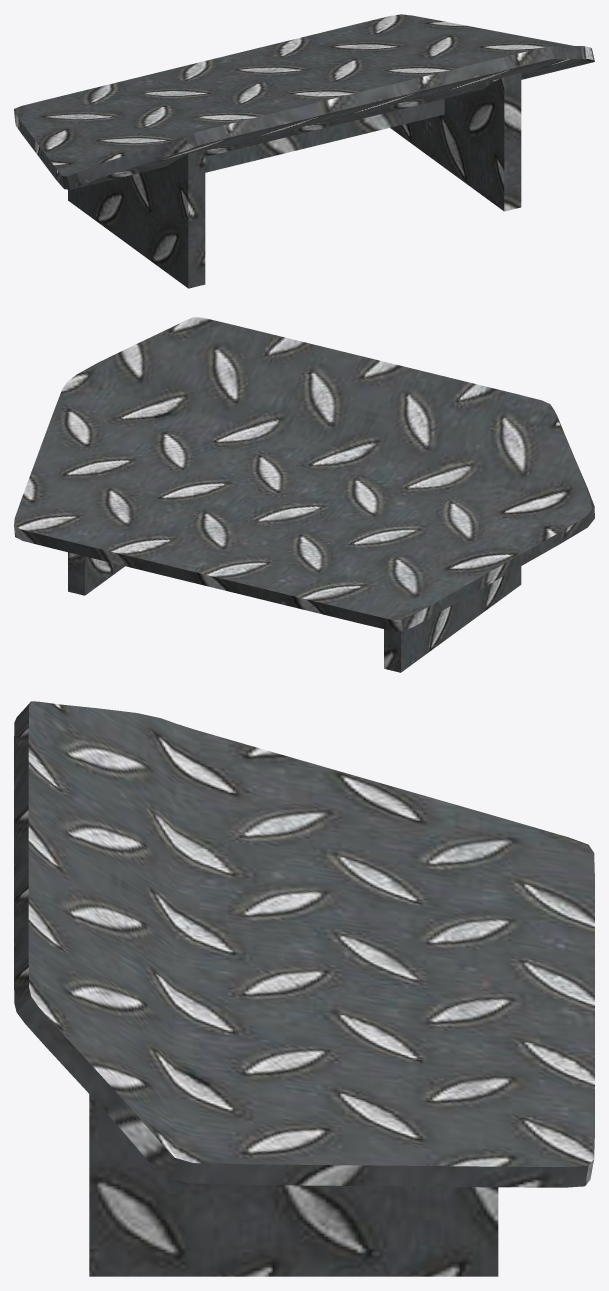
The model's file is Foot Rest V2.fbx.
The picture shows the model from 3 angles, top to bottom: view 1: azimuth 30°, elevation 25°; view 2: azimuth 150°, elevation 25°; view 3: azimuth 270°, elevation 25°; orthographic projection. The views are drawn at different scales.
Parts seen in each view (by area): view 1: Cube.019; view 2: Cube.019; view 3: Cube.019.
Boxes of the visible parts, box(x1,y1,x2,y2) form: Cube.019: box(14, 14, 594, 288); Cube.019: box(14, 317, 594, 672); Cube.019: box(14, 701, 594, 1276).
Size of the model in its own units: 223 by 69.84 by 126.
Materials: 1 (1 with a texture image).
